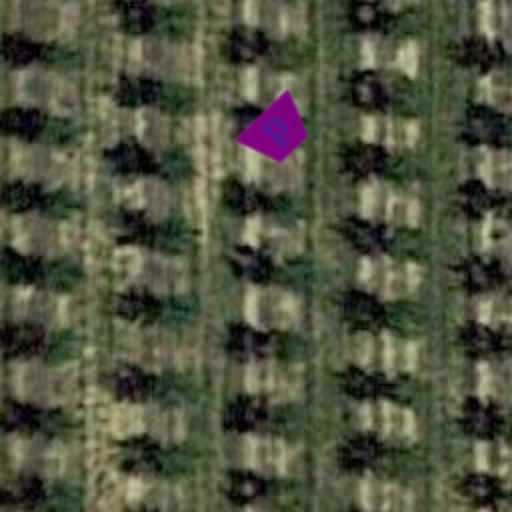trapezoid: (224, 78, 332, 186)
